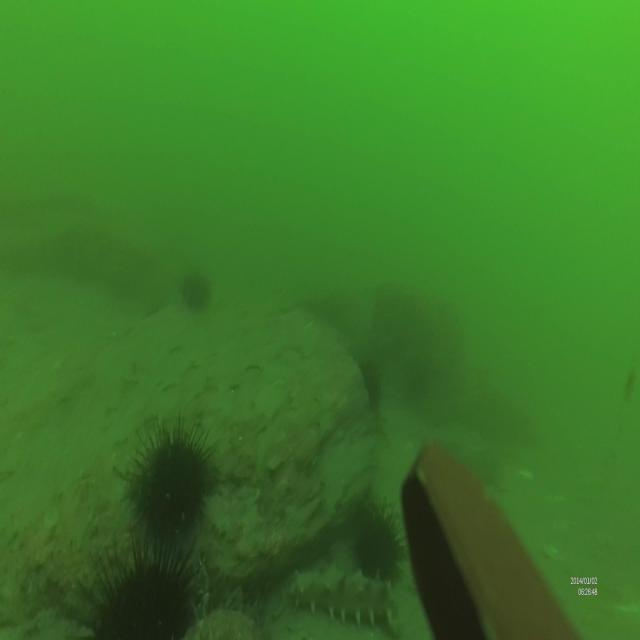echinus: (71, 539, 202, 640), (119, 423, 207, 522), (352, 498, 404, 570), (177, 271, 207, 315)
holothurian: (287, 565, 400, 640)
